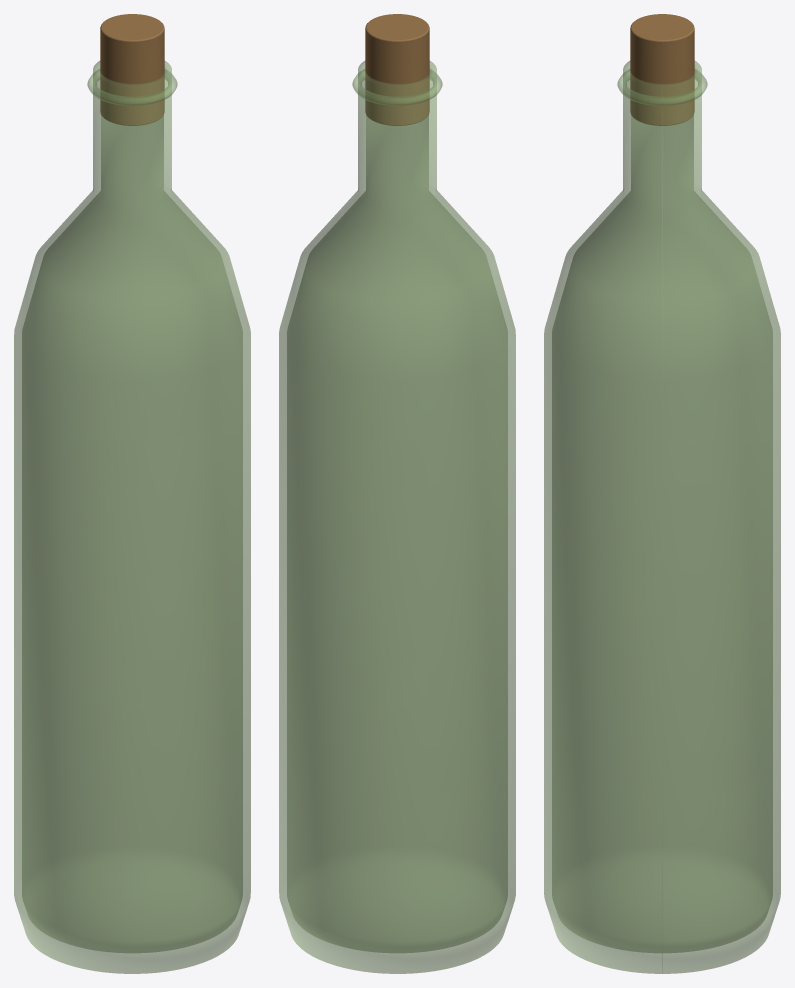
Rendered from innerscene-wine.glb.
3 views of the same model, side by side, from view 1: azimuth 30°, elevation 25°; view 2: azimuth 150°, elevation 25°; view 3: azimuth 270°, elevation 25° (orthographic).
Parts seen in each view (by area): view 1: Hollow green wine bottle, Plain exposed cork stopper, Bottle neck lip; view 2: Hollow green wine bottle, Plain exposed cork stopper, Bottle neck lip; view 3: Hollow green wine bottle, Plain exposed cork stopper, Bottle neck lip.
Boxes of the visible parts, x1,y1,x2,y2 form: Hollow green wine bottle: (14, 61, 250, 973); Plain exposed cork stopper: (100, 14, 164, 125); Bottle neck lip: (87, 69, 177, 105); Hollow green wine bottle: (279, 61, 515, 973); Plain exposed cork stopper: (365, 14, 429, 125); Bottle neck lip: (352, 69, 442, 105); Hollow green wine bottle: (544, 61, 780, 973); Plain exposed cork stopper: (630, 14, 694, 125); Bottle neck lip: (617, 69, 707, 105).
Size of the model in its own units: 0.075 by 0.315 by 0.075.
Materials: 2 (2 with a texture image).
